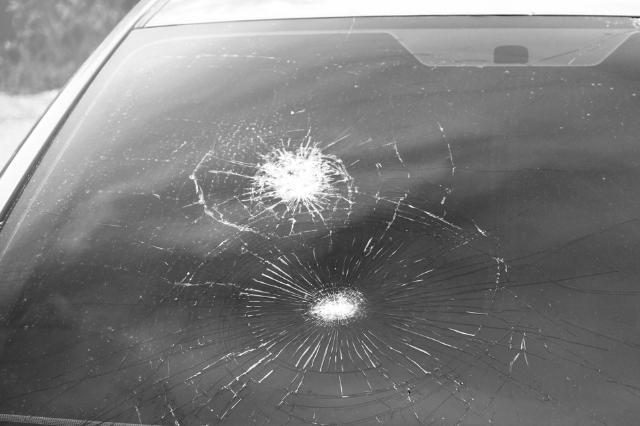Windshield: (27, 32, 640, 426)
